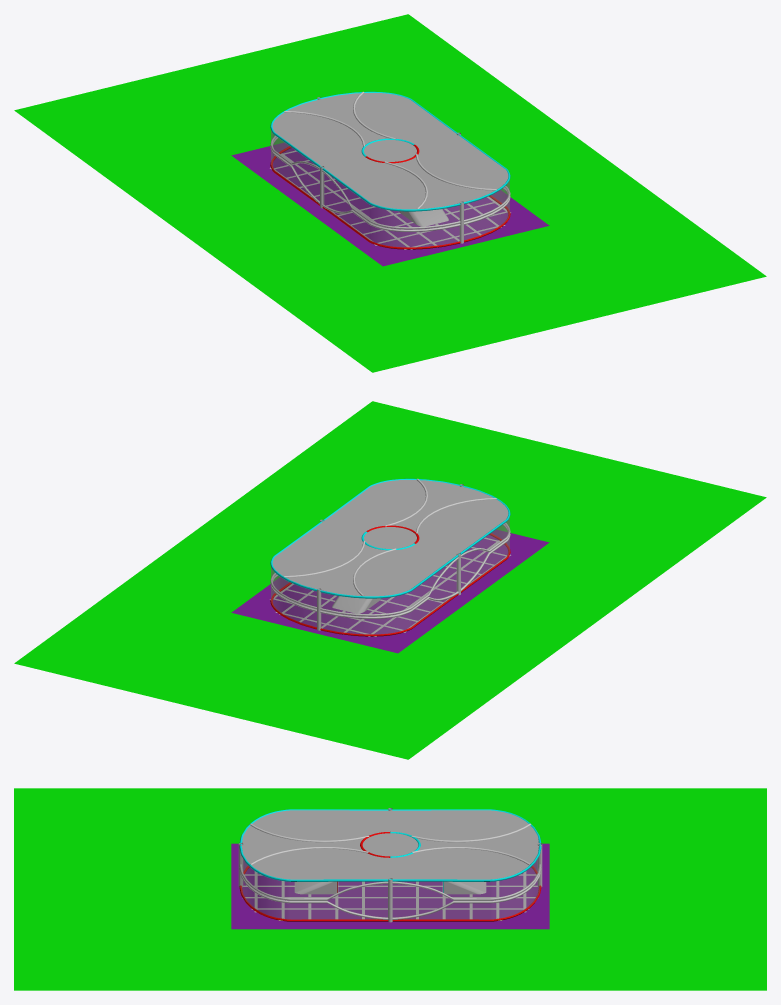
Rendered from Arena_4.fbx.
3 views of the same model, one above another, from view 1: azimuth 30°, elevation 25°; view 2: azimuth 150°, elevation 25°; view 3: azimuth 270°, elevation 25° (orthographic). The views are drawn at different scales.
Parts seen in each view (by area): view 1: exterior, Top_Glass, Floor_Structure, Walls_Glass, Walls_Structure, Top_Structure; view 2: exterior, Top_Glass, Floor_Structure, Walls_Glass, Walls_Structure, Top_Structure; view 3: exterior, Top_Glass, Floor_Structure, Walls_Glass, Walls_Structure, Top_Structure, Grid_Red, Grid_Blue.
Part boxes in pixels (box(x1,y1,x2,y2)): exterior: box(14, 14, 766, 372); Top_Glass: box(272, 93, 508, 209); Floor_Structure: box(231, 143, 549, 266); Walls_Glass: box(271, 130, 509, 247); Walls_Structure: box(270, 91, 510, 249); Top_Structure: box(284, 91, 496, 208); exterior: box(14, 401, 766, 759); Top_Glass: box(272, 480, 508, 596); Floor_Structure: box(231, 530, 549, 653); Walls_Glass: box(271, 517, 509, 634); Walls_Structure: box(270, 478, 510, 636); Top_Structure: box(284, 478, 496, 595); exterior: box(14, 788, 766, 990); Top_Glass: box(242, 810, 538, 879); Floor_Structure: box(231, 843, 549, 929); Walls_Glass: box(240, 854, 540, 919); Walls_Structure: box(238, 808, 542, 922); Top_Structure: box(250, 823, 530, 864); Grid_Red: box(444, 881, 486, 894); Grid_Blue: box(294, 881, 336, 894).
Size of what is drawn, in the model's own units: 32847 by 4680 by 51705.
